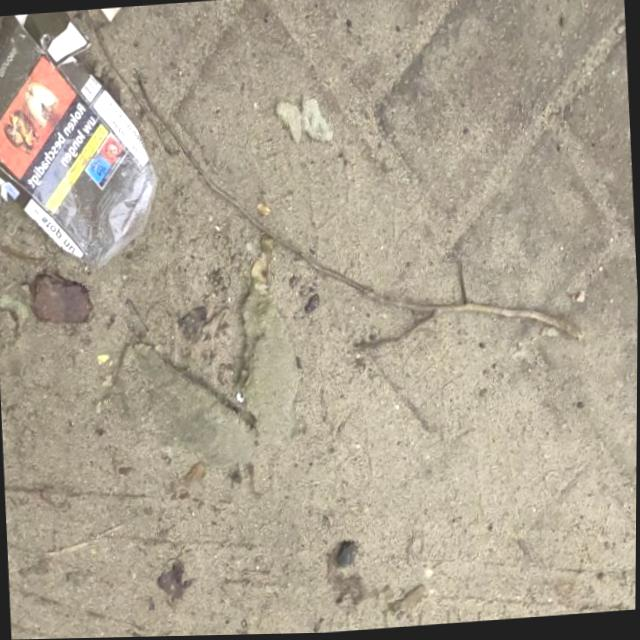Paper: (0, 5, 167, 277)
